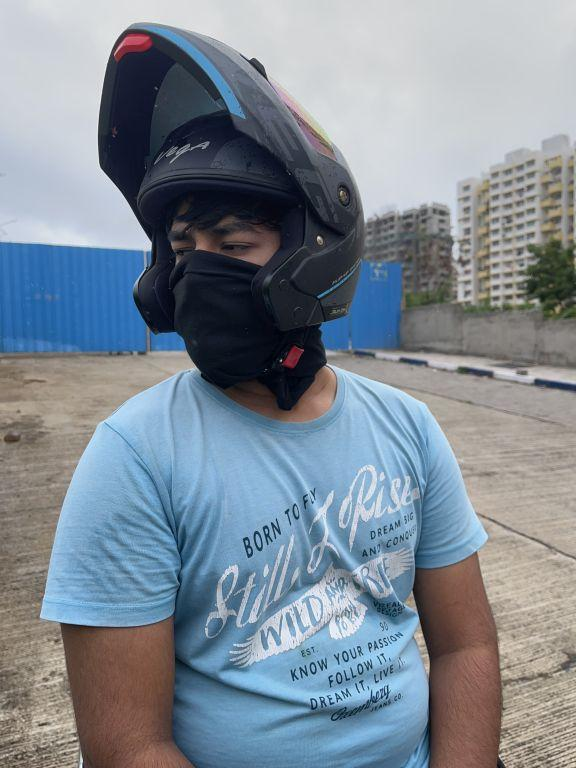helmet: (80, 14, 386, 414)
